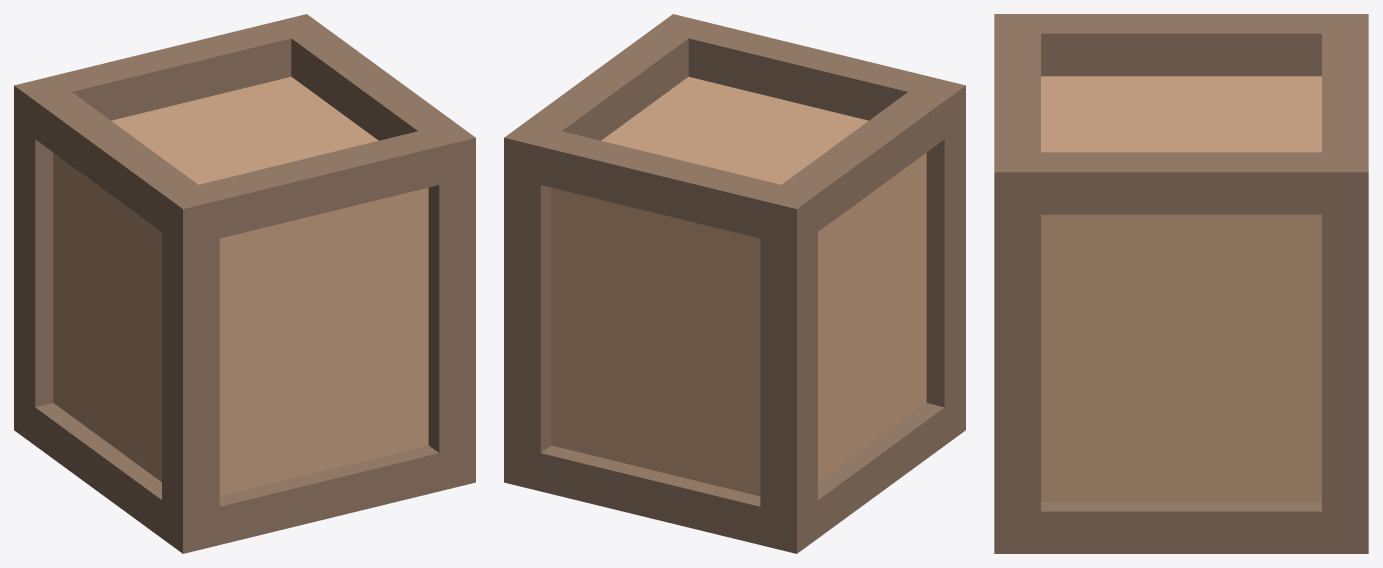
Rendered from Crate.fbx.
The picture shows the model from 3 angles, left to right: view 1: azimuth 30°, elevation 25°; view 2: azimuth 150°, elevation 25°; view 3: azimuth 270°, elevation 25°; orthographic projection. The views are drawn at different scales.
Visible parts, largest first — view 1: cube, cube_4, cube_5, cube_7, cube_3, cube_8, cube_6, cube_10, cube_1, cube_12, cube_11; view 2: cube, cube_1, cube_5, cube_8, cube_2, cube_7, cube_6, cube_9, cube_4, cube_12, cube_11; view 3: cube, cube_6, cube_5, cube_11, cube_2, cube_3, cube_7, cube_8.
Boxes of the visible parts, x1,y1,x2,y2 form: cube: [53, 76, 428, 496]; cube_4: [162, 232, 219, 515]; cube_5: [14, 76, 219, 247]; cube_7: [199, 131, 439, 238]; cube_3: [428, 176, 475, 452]; cube_8: [51, 23, 291, 120]; cube_6: [271, 14, 475, 184]; cube_10: [219, 445, 439, 544]; cube_1: [14, 124, 53, 407]; cube_12: [14, 392, 219, 553]; cube_11: [439, 444, 475, 491]; cube: [551, 76, 926, 496]; cube_1: [760, 232, 817, 515]; cube_5: [760, 76, 965, 247]; cube_8: [540, 131, 780, 238]; cube_2: [504, 176, 551, 452]; cube_7: [688, 23, 928, 120]; cube_6: [504, 14, 708, 184]; cube_9: [540, 445, 760, 544]; cube_4: [926, 124, 965, 407]; cube_12: [760, 392, 965, 553]; cube_11: [504, 444, 540, 491]; cube: [1041, 76, 1321, 501]; cube_6: [994, 152, 1368, 214]; cube_5: [994, 14, 1368, 76]; cube_11: [994, 501, 1368, 553]; cube_2: [1322, 214, 1368, 511]; cube_3: [994, 214, 1040, 511]; cube_7: [994, 33, 1040, 152]; cube_8: [1322, 33, 1368, 152].
Size of the model in its own units: 100 by 112 by 100.
Materials: 1 (1 with a texture image).
